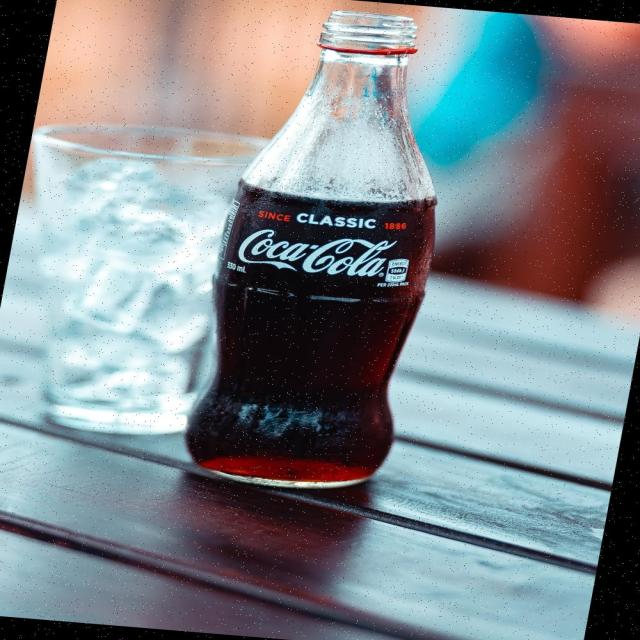coca-cola: (161, 0, 497, 501)
